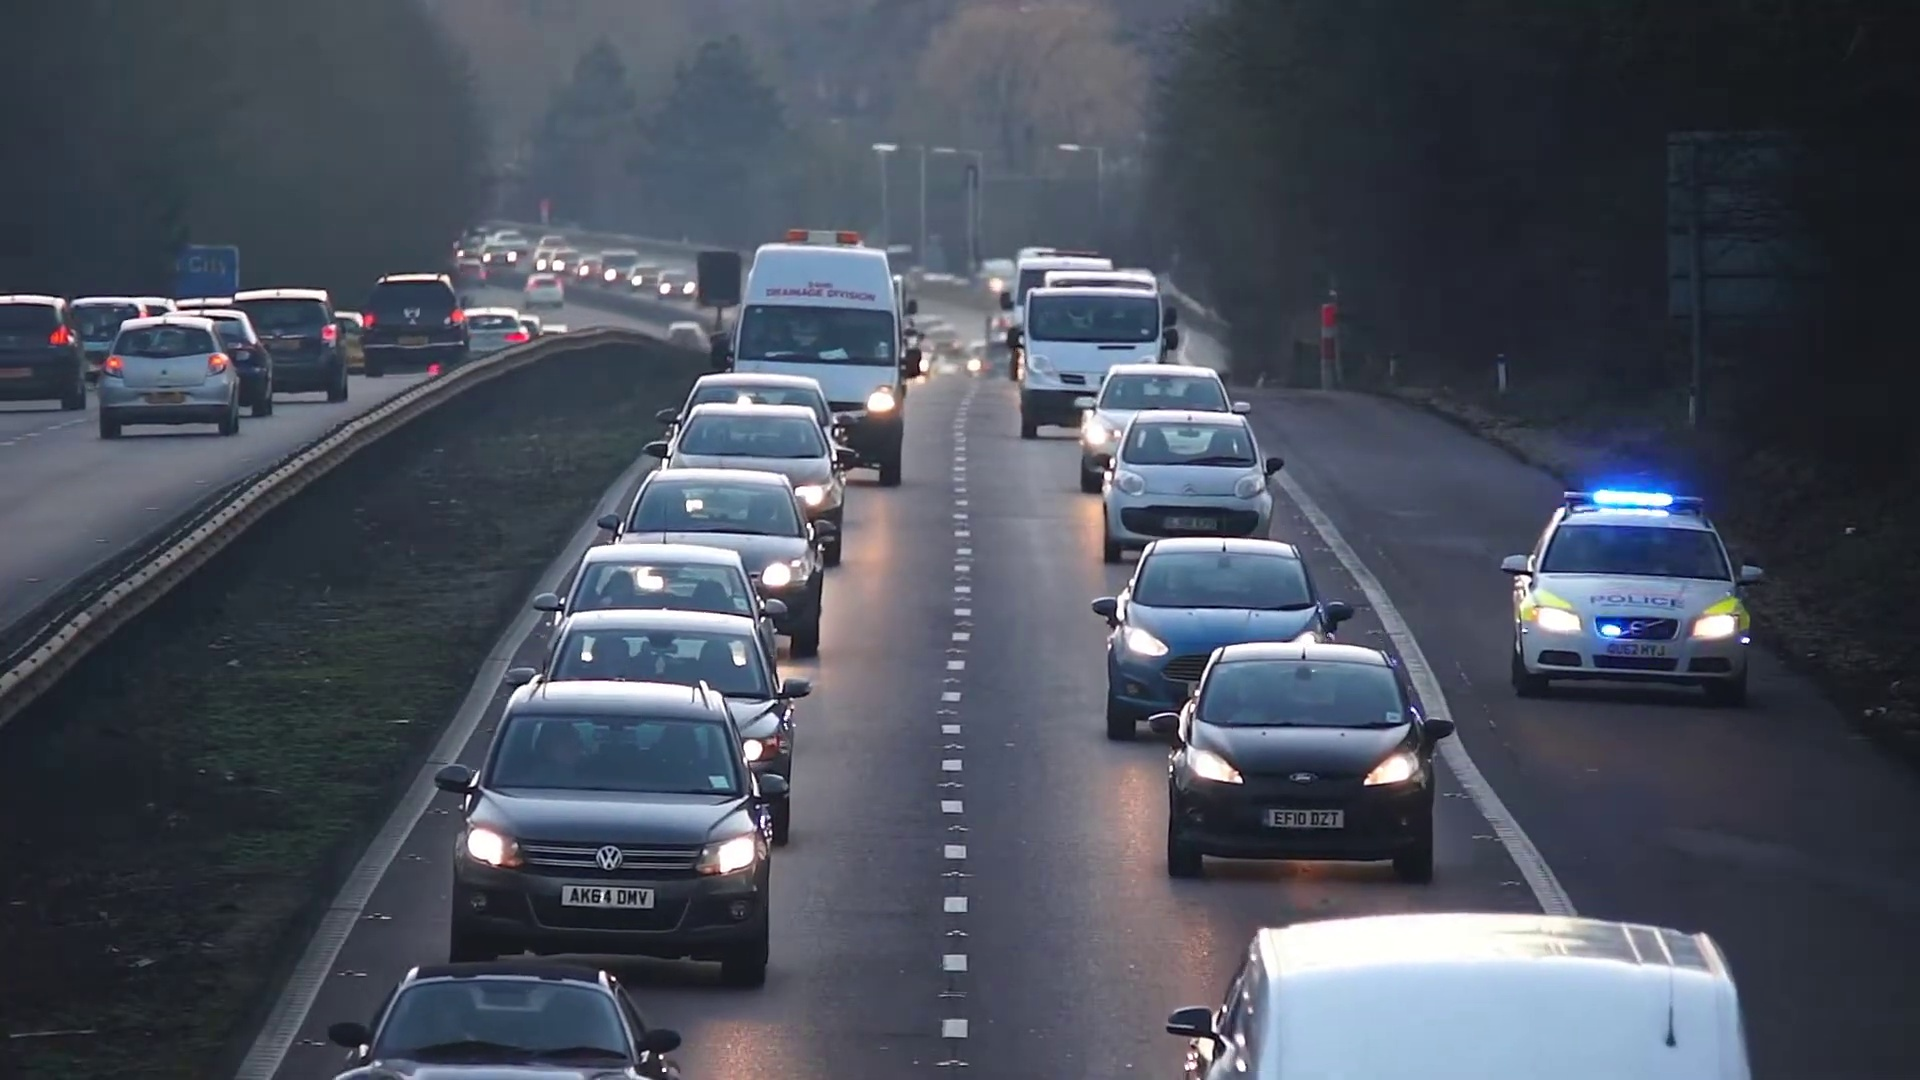license_plate: (560, 883, 654, 909), (1261, 807, 1343, 831)
